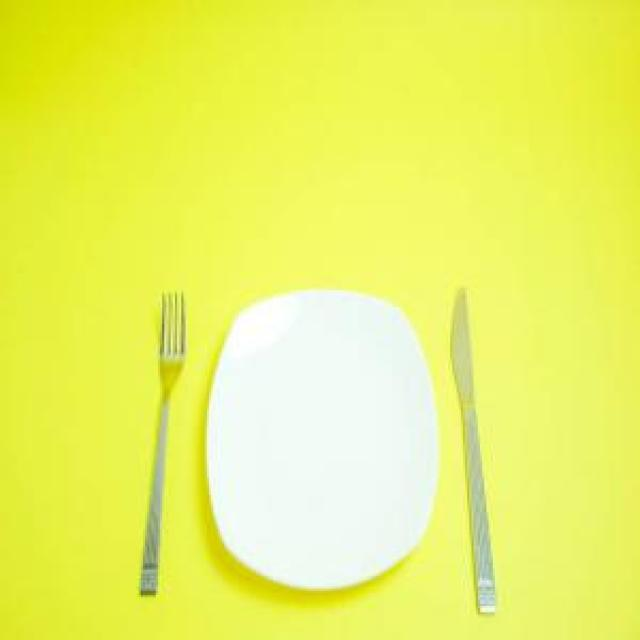knife: (450, 284, 498, 614)
